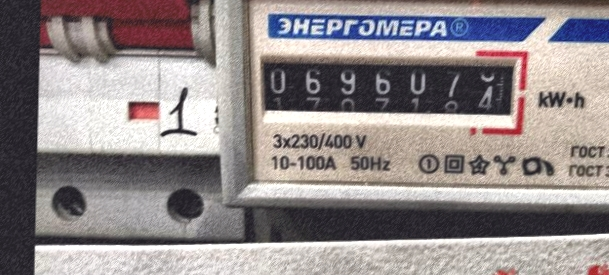0: (268, 64, 288, 95), (409, 65, 428, 95)
4: (475, 82, 495, 111)
6: (302, 64, 324, 95), (374, 66, 393, 94)
7: (444, 67, 461, 97)
9: (339, 66, 357, 95)
screen: (243, 37, 530, 134)
